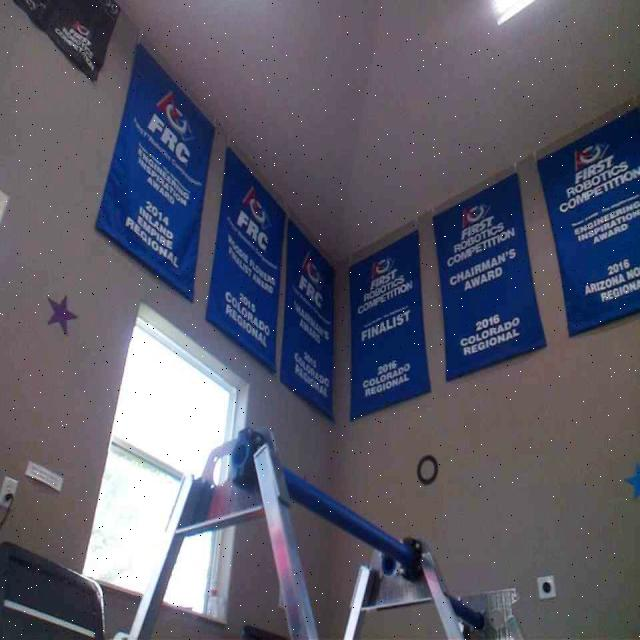ring_black: (415, 452, 437, 484)
star_purple: (44, 294, 76, 334)
